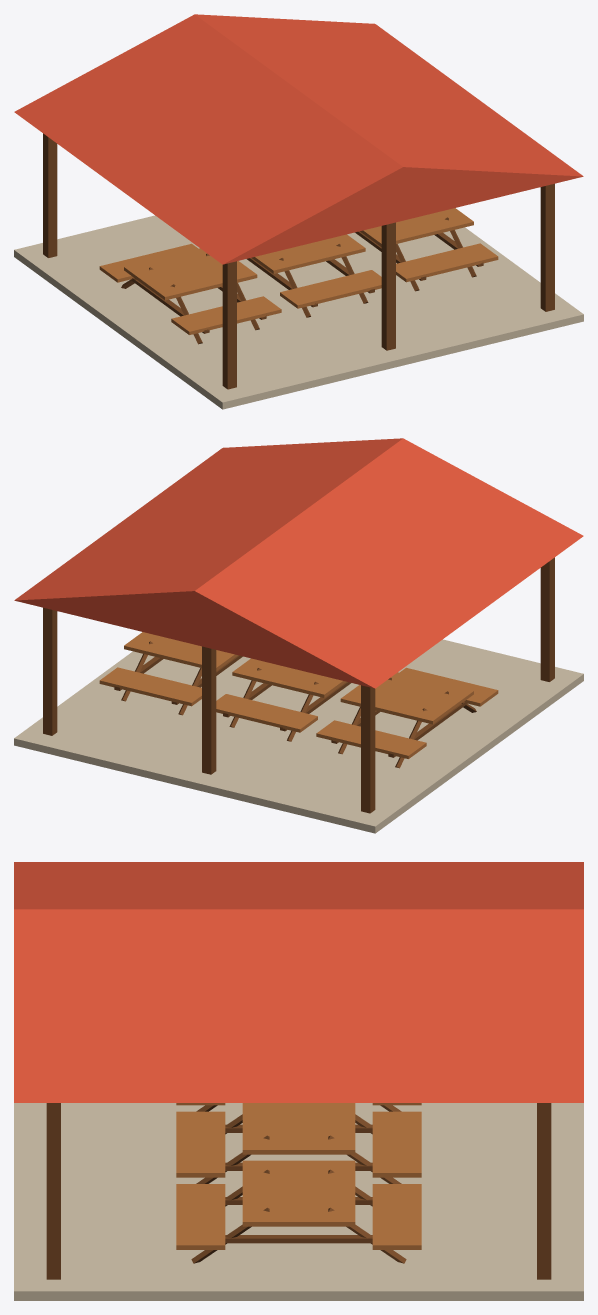
File: picnic_pavilion.fbx
3 renders of one model, top to bottom at view 1: azimuth 30°, elevation 25°; view 2: azimuth 150°, elevation 25°; view 3: azimuth 270°, elevation 25°, orthographic. The views are drawn at different scales.
Parts seen in each view (by area): view 1: picnic_pavilion; view 2: picnic_pavilion; view 3: picnic_pavilion.
Part boxes in pixels (x1,y1,x2,y2): picnic_pavilion: (14, 14, 583, 409); picnic_pavilion: (14, 438, 583, 833); picnic_pavilion: (14, 862, 583, 1300).
Bounding box in the file's own units: 8 × 4.2 × 8.
